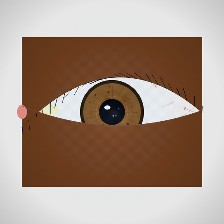pinguecula_lesion: (28, 94, 69, 126)
